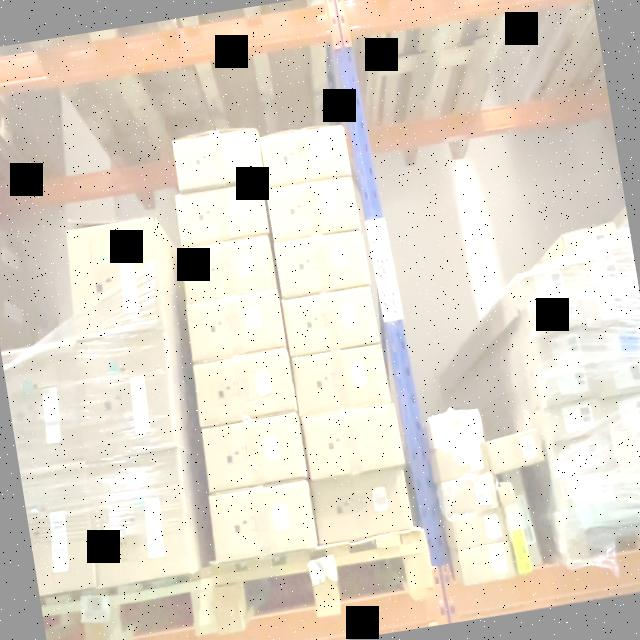box: (88, 448, 193, 586), (78, 330, 178, 462), (68, 221, 163, 340), (210, 479, 316, 560), (201, 411, 306, 492), (194, 349, 296, 428), (302, 403, 404, 480), (313, 469, 414, 544), (186, 289, 285, 363), (293, 344, 392, 417), (275, 230, 372, 299), (282, 289, 380, 357), (180, 235, 276, 304), (172, 128, 265, 193), (175, 181, 268, 246), (267, 177, 361, 241), (260, 125, 352, 188), (510, 475, 541, 569), (542, 397, 605, 443), (501, 483, 532, 573), (538, 361, 598, 407), (533, 326, 592, 369), (562, 221, 619, 265), (549, 436, 612, 475), (458, 541, 515, 584), (528, 291, 583, 335), (488, 428, 543, 472), (561, 473, 623, 512), (570, 254, 627, 295), (453, 509, 507, 552), (578, 286, 638, 324), (587, 319, 640, 362), (442, 475, 497, 516), (431, 410, 483, 451), (436, 441, 489, 481), (522, 266, 571, 302), (594, 358, 640, 395), (600, 396, 640, 432), (609, 430, 640, 465), (619, 468, 640, 503)
